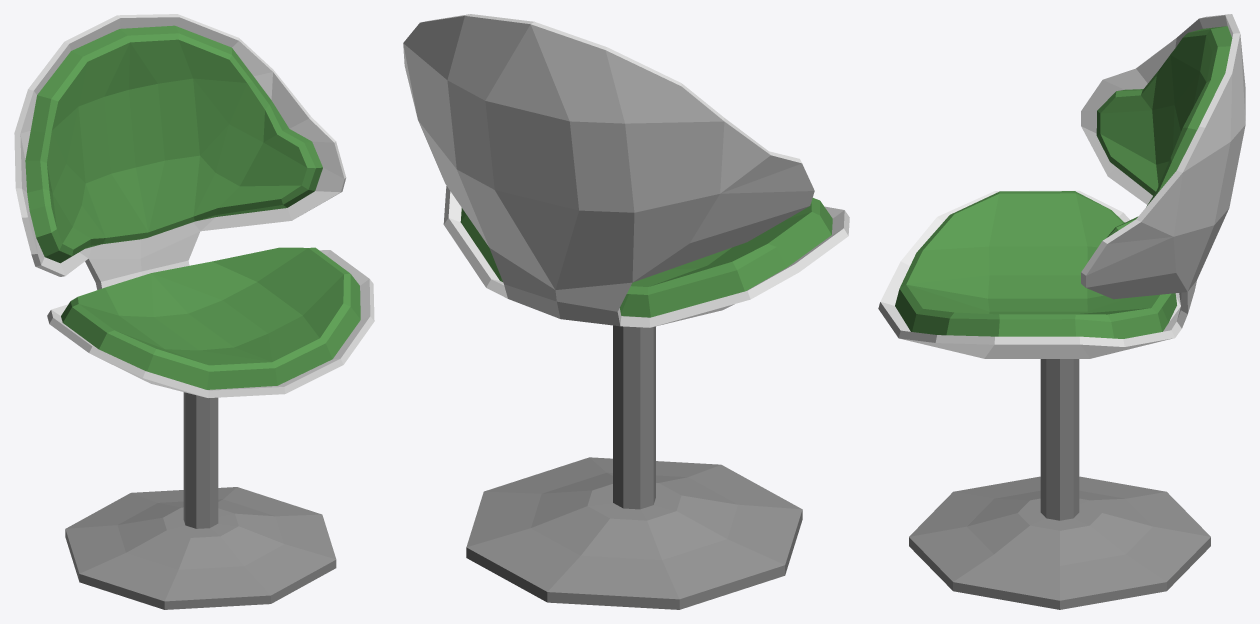
The model's file is Int_Chair05_1.fbx.
3 views of the same model, side by side, from view 1: azimuth 30°, elevation 25°; view 2: azimuth 150°, elevation 25°; view 3: azimuth 270°, elevation 25° (orthographic). The views are drawn at different scales.
Visible parts, largest first — view 1: Int_Chair05_1; view 2: Int_Chair05_1; view 3: Int_Chair05_1.
Part boxes in pixels (left/top/right/bottom): Int_Chair05_1: left=14, top=14, right=374, bottom=609; Int_Chair05_1: left=403, top=14, right=849, bottom=609; Int_Chair05_1: left=878, top=14, right=1245, bottom=609.
Size of what is drawn, in the model's own units: 81.35 by 76.31 by 118.
